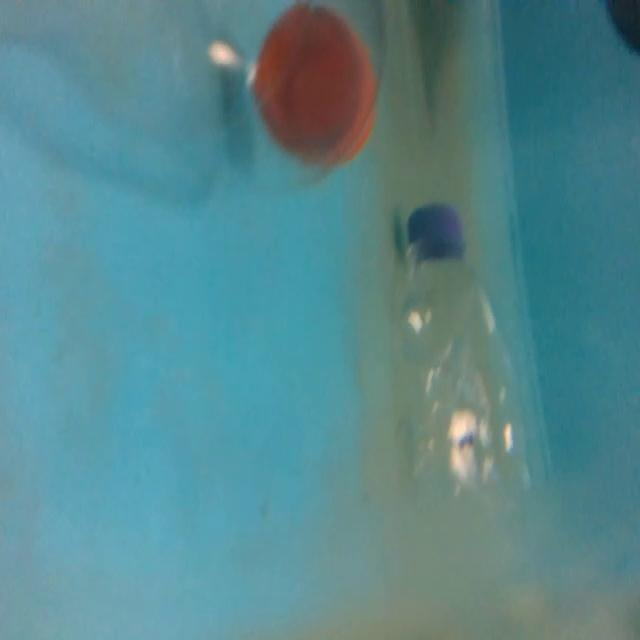plastic bottle: (388, 197, 537, 528)
